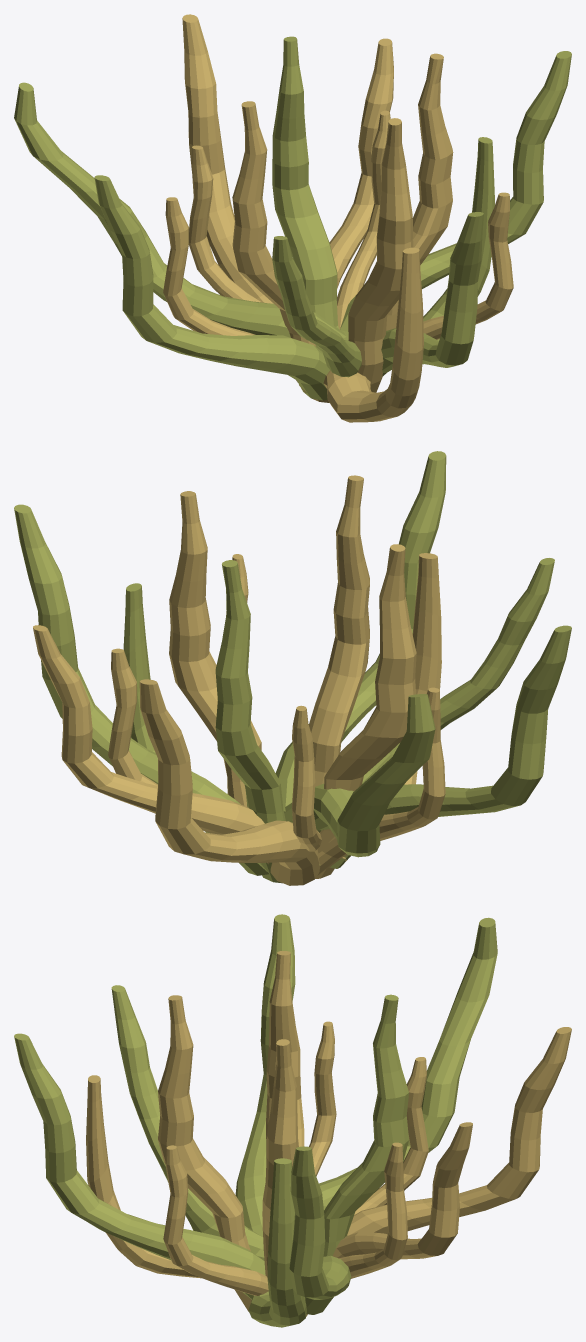
Rendered from Cactus2.fbx.
3 views of the same model, one above another, from view 1: azimuth 30°, elevation 25°; view 2: azimuth 150°, elevation 25°; view 3: azimuth 270°, elevation 25° (orthographic). The views are drawn at different scales.
Visible parts, largest first — view 1: Cactus2; view 2: Cactus2; view 3: Cactus2.
Part boxes in pixels (bbox=[...]): Cactus2: bbox=[14, 14, 571, 422]; Cactus2: bbox=[14, 451, 571, 885]; Cactus2: bbox=[14, 914, 571, 1327].
Size of the model in its own units: 203 by 124 by 202.
